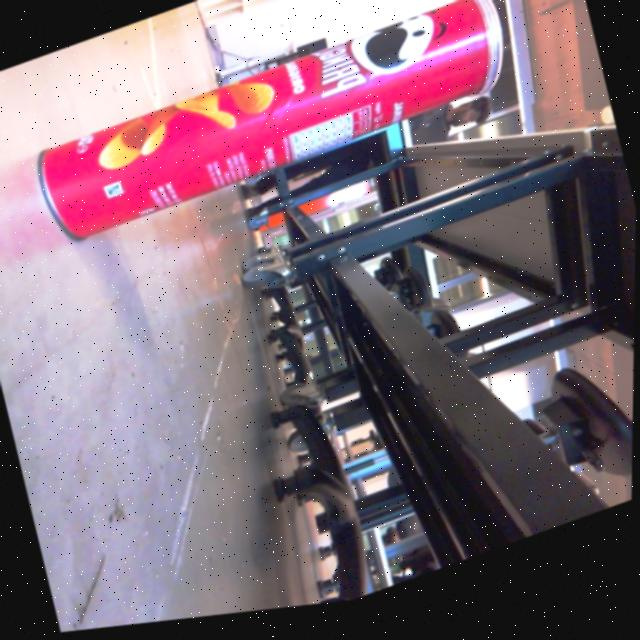redpringles: (8, 0, 531, 286)
